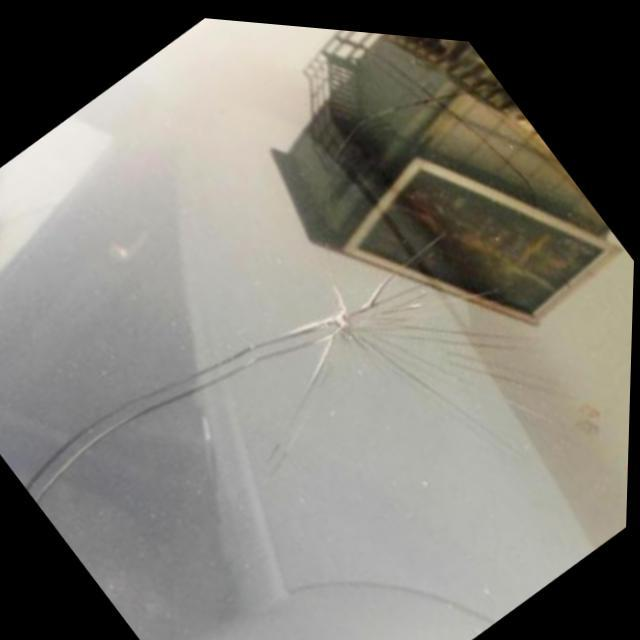glass shatter: (272, 269, 449, 369)
